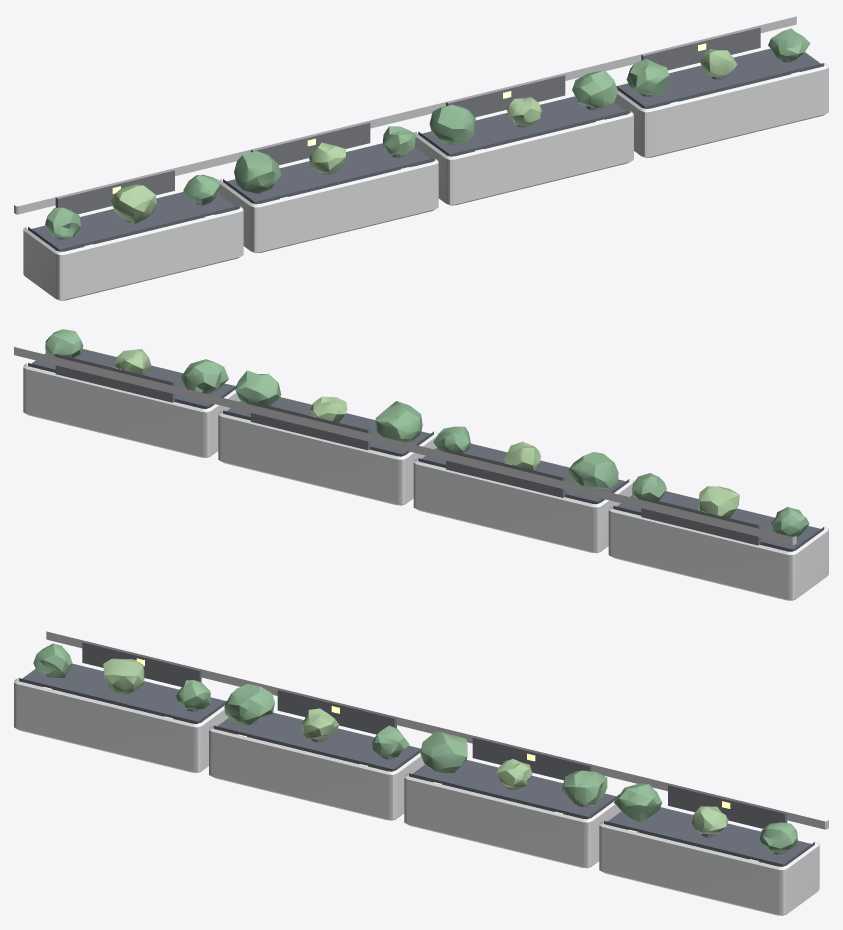
The model's file is iter_02.glb.
3 renders of one model, top to bottom at view 1: azimuth 30°, elevation 25°; view 2: azimuth 150°, elevation 25°; view 3: azimuth 330°, elevation 25°, orthographic.
Visible parts, largest first — view 1: Cassettes, Grow_Lid, Foliage, Cassette_Hooks, Wall_Rail, Foliage_Light; view 2: Cassettes, Foliage, Wall_Rail, Grow_Lid, Cassette_Hooks, Foliage_Light; view 3: Cassettes, Grow_Lid, Foliage, Cassette_Hooks, Wall_Rail, Foliage_Light.
Part boxes in pixels (left/top/right/bottom): Cassettes: left=23, top=63, right=828, bottom=300; Grow_Lid: left=28, top=48, right=824, bottom=251; Foliage: left=45, top=28, right=810, bottom=238; Cassette_Hooks: left=55, top=27, right=760, bottom=214; Wall_Rail: left=14, top=16, right=796, bottom=214; Foliage_Light: left=110, top=49, right=737, bottom=223; Cassettes: left=23, top=363, right=828, bottom=600; Foliage: left=45, top=329, right=809, bottom=537; Wall_Rail: left=14, top=347, right=796, bottom=544; Grow_Lid: left=28, top=348, right=824, bottom=551; Cassette_Hooks: left=55, top=354, right=760, bottom=545; Foliage_Light: left=114, top=349, right=739, bottom=518; Cassettes: left=14, top=678, right=819, bottom=915; Grow_Lid: left=18, top=663, right=814, bottom=866; Foliage: left=33, top=643, right=797, bottom=852; Cassette_Hooks: left=82, top=642, right=787, bottom=828; Wall_Rail: left=46, top=631, right=828, bottom=829; Foliage_Light: left=103, top=658, right=728, bottom=833.
Size of the model in its own units: 4 by 0.4112 by 0.37.
